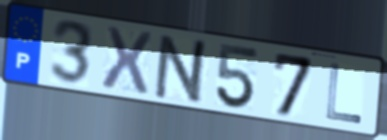3: (48, 17, 96, 87)
5: (213, 40, 261, 112)
7: (271, 49, 315, 119)
L: (324, 61, 364, 127)
N: (151, 33, 213, 107)
X: (98, 23, 155, 96)
